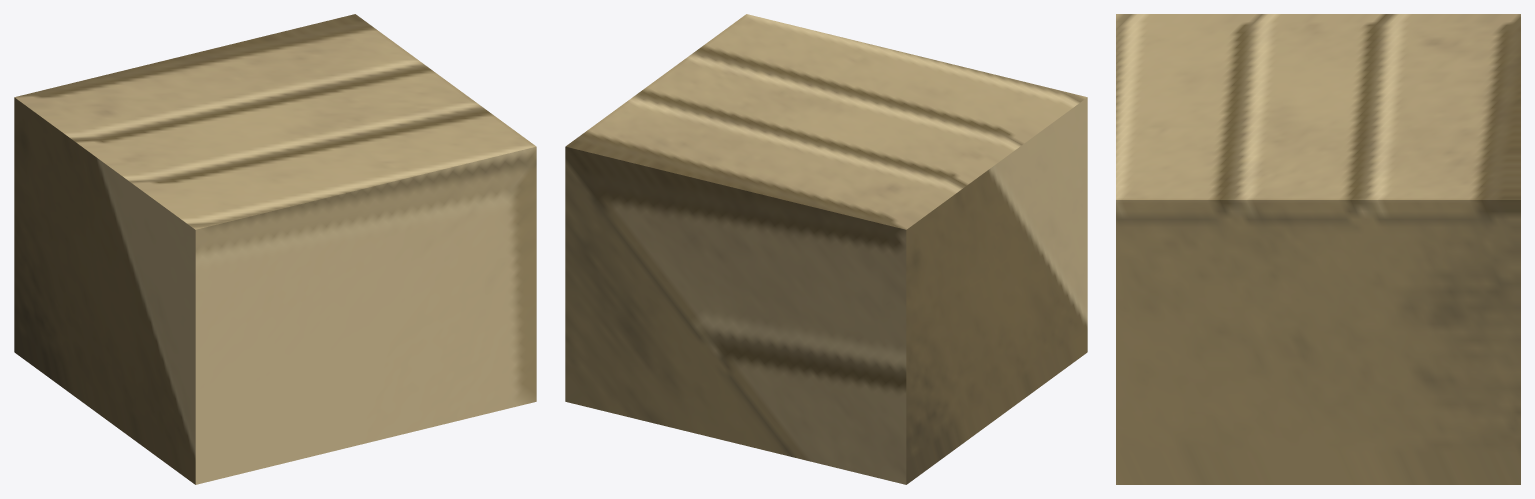
File: pz_house_drawers_pale.obj
The picture shows the model from 3 angles, left to right: view 1: azimuth 30°, elevation 25°; view 2: azimuth 150°, elevation 25°; view 3: azimuth 270°, elevation 25°; orthographic projection. The views are drawn at different scales.
Visible parts, largest first — view 1: pz_house_drawers_pale; view 2: pz_house_drawers_pale; view 3: pz_house_drawers_pale.
Boxes of the visible parts, box(x1,y1,x2,y2) form: pz_house_drawers_pale: box(14, 14, 536, 484); pz_house_drawers_pale: box(565, 14, 1087, 484); pz_house_drawers_pale: box(1116, 14, 1520, 484).
Bounding box in the file's own units: 0.9154 × 0.6542 × 0.8421.
Materials: 1 (1 with a texture image).
